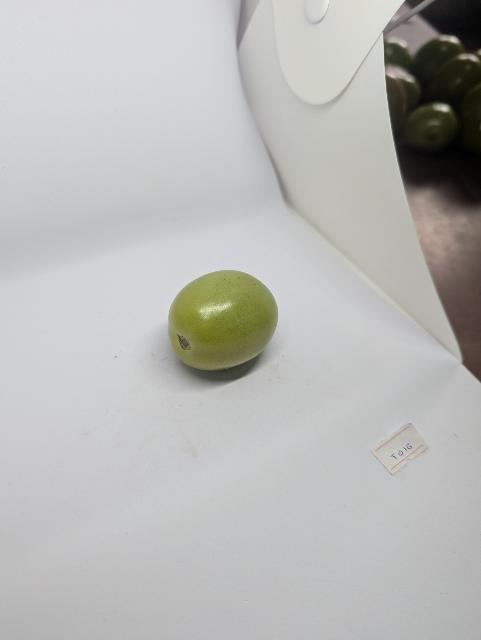green: (167, 269, 282, 375)
